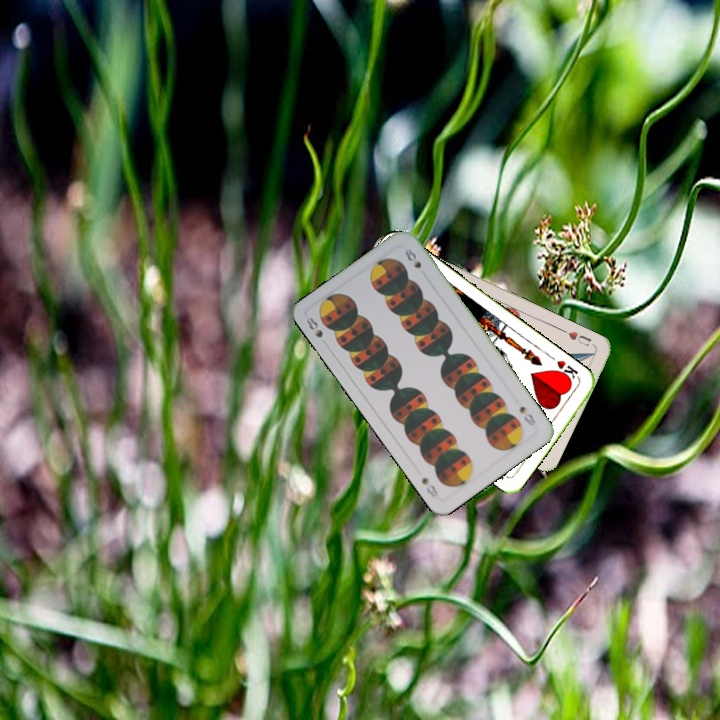HK: (551, 356, 582, 385)
HU: (558, 326, 594, 348)
S8: (300, 313, 330, 349), (515, 402, 539, 428)
